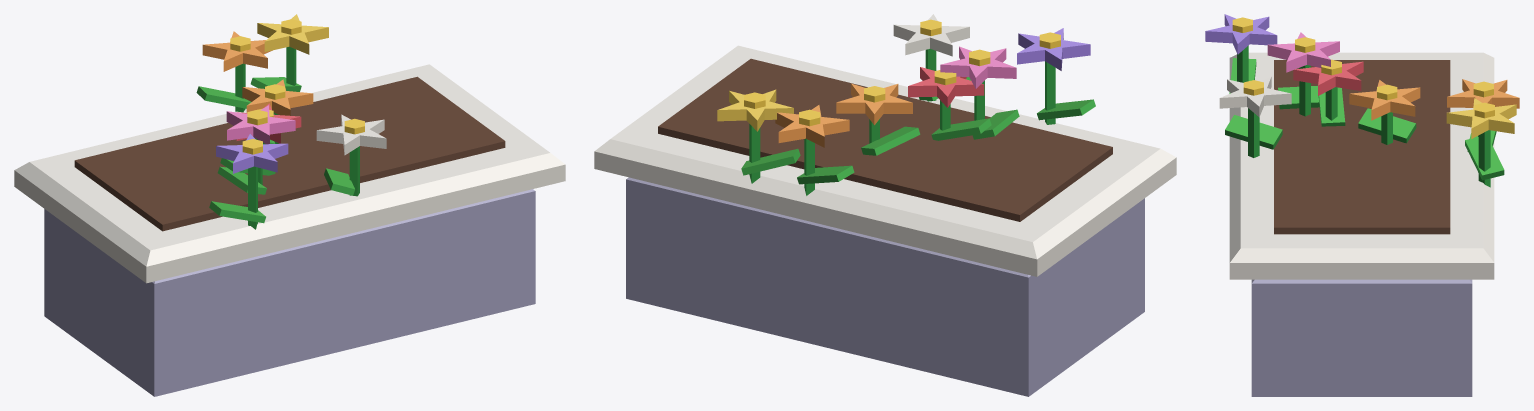
File: Planter_2.glb
3 renders of one model, left to right at view 1: azimuth 30°, elevation 25°; view 2: azimuth 150°, elevation 25°; view 3: azimuth 270°, elevation 25°, orthographic. The views are drawn at different scales.
Parts seen in each view (by area): view 1: Planter_2; view 2: Planter_2; view 3: Planter_2.
Boxes of the visible parts, box(x1,y1,x2,y2) form: Planter_2: box(14, 14, 565, 396); Planter_2: box(594, 14, 1176, 396); Planter_2: box(1205, 14, 1519, 396).
Size of the model in its own units: 6.6 by 3.51 by 4.28.
Materials: 1 (1 with a texture image).
